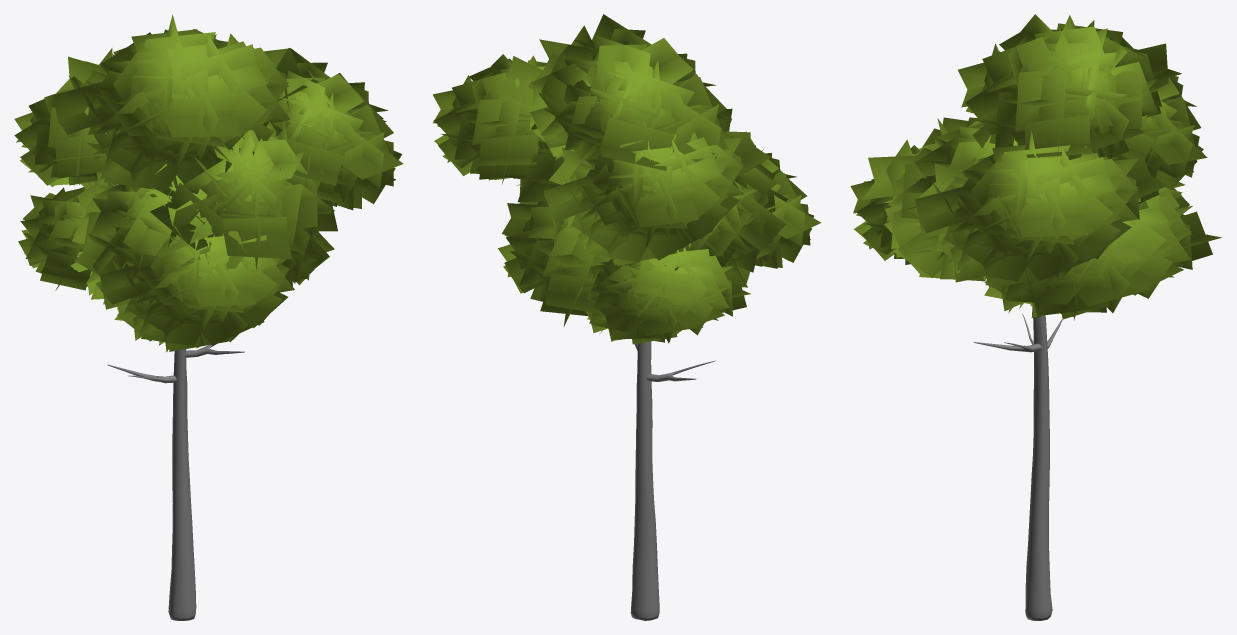
Rendered from SM_tree_02.fbx.
The picture shows the model from 3 angles, left to right: view 1: azimuth 30°, elevation 25°; view 2: azimuth 150°, elevation 25°; view 3: azimuth 270°, elevation 25°; orthographic projection. The views are drawn at different scales.
Parts seen in each view (by area): view 1: Group63285; view 2: Group63285; view 3: Group63285.
Boxes of the visible parts, bbox=[...] form: Group63285: bbox=[14, 14, 403, 620]; Group63285: bbox=[432, 14, 821, 620]; Group63285: bbox=[850, 14, 1221, 620].
Bounding box in the file's own units: 172 × 292 × 164.
